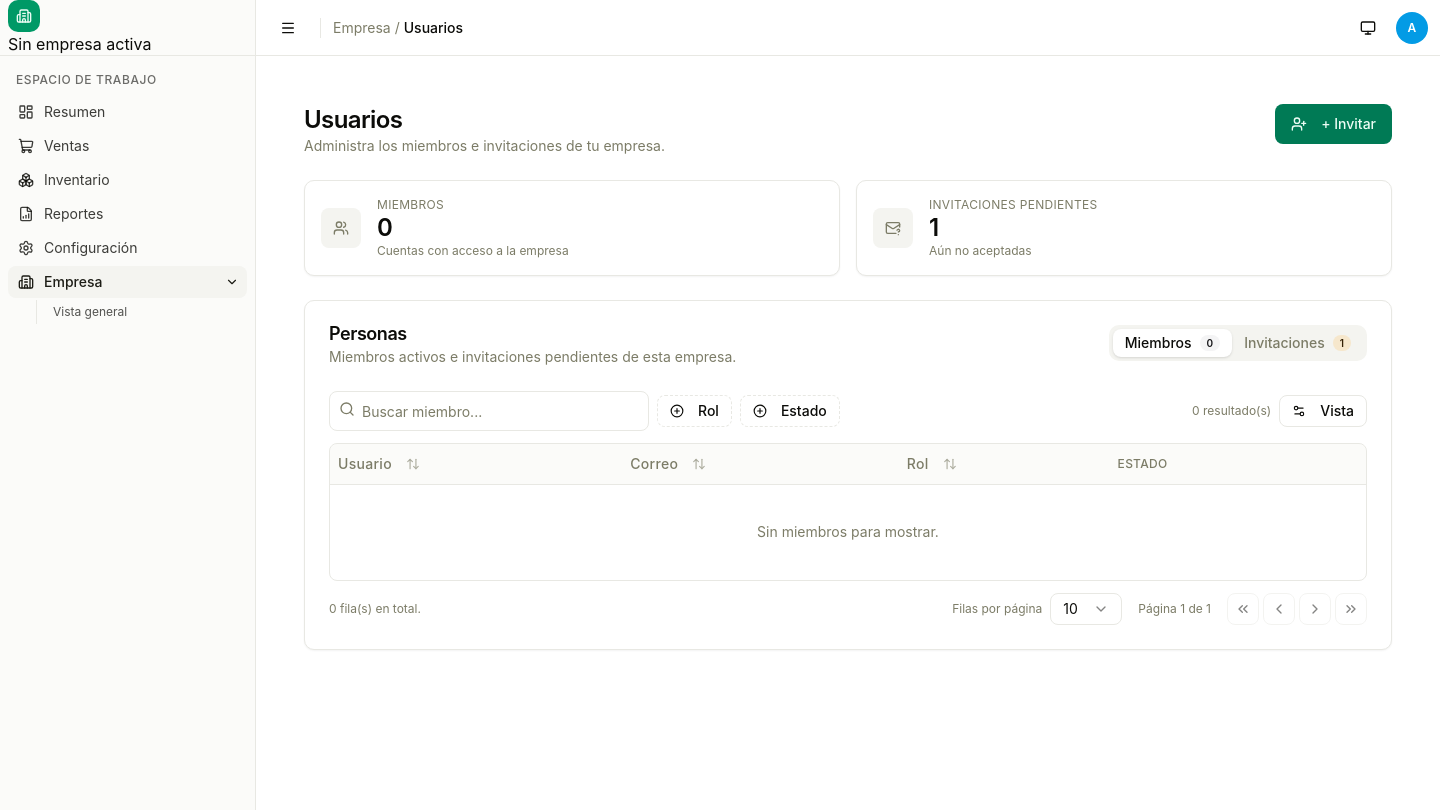
Test: EmpresaUsuariosRoute › renders pending invitations with a Cancelar button under the Invitaciones tab
Step 1. Press the mouse on the tab "Invitaciones 1" → x=1298, y=343, box [1232,329,1363,357]
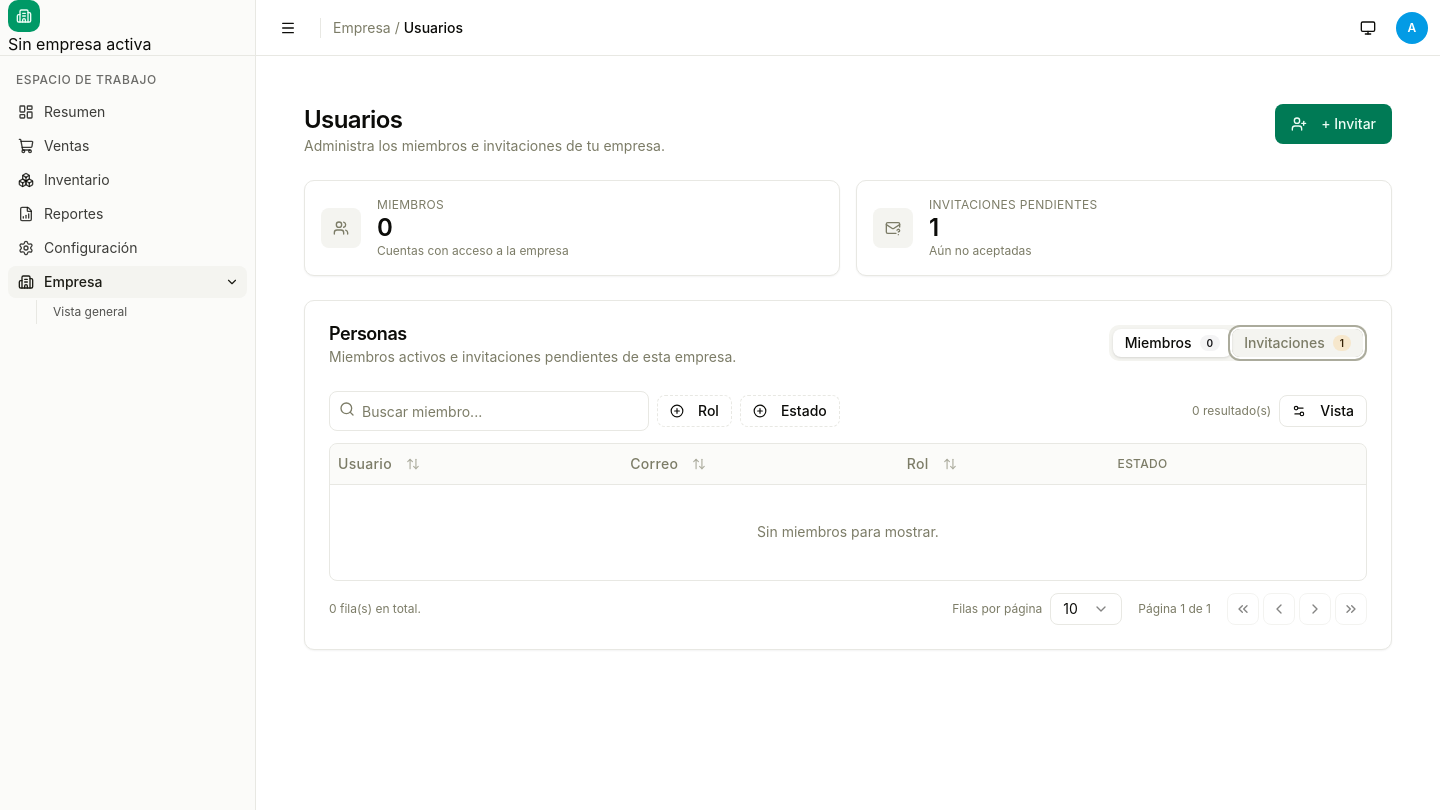
Step 2. Click the tab "Invitaciones 1" → x=1298, y=343, box [1232,329,1363,357]
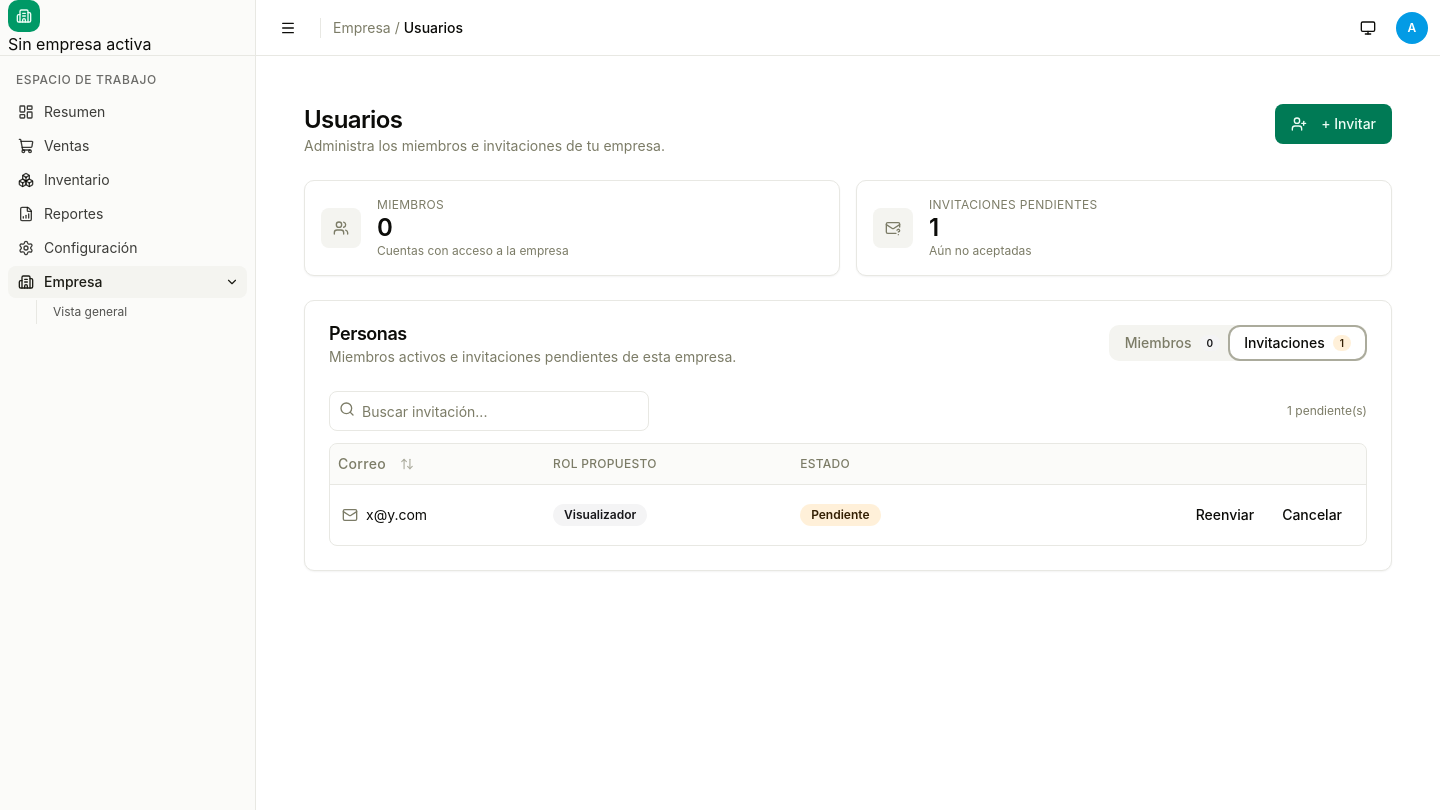
Result: the text "x@y.com" is shown at [366,504,427,524]
Result: the button "Cancelar" is shown at [1270,496,1354,532]
